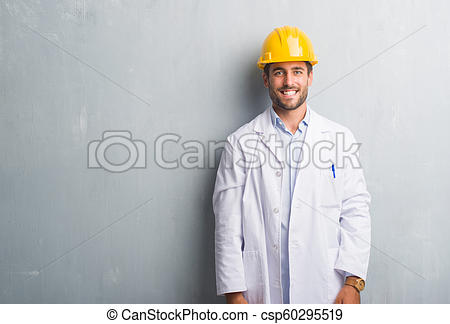Person_wearing_helmet: (250, 19, 323, 84)
